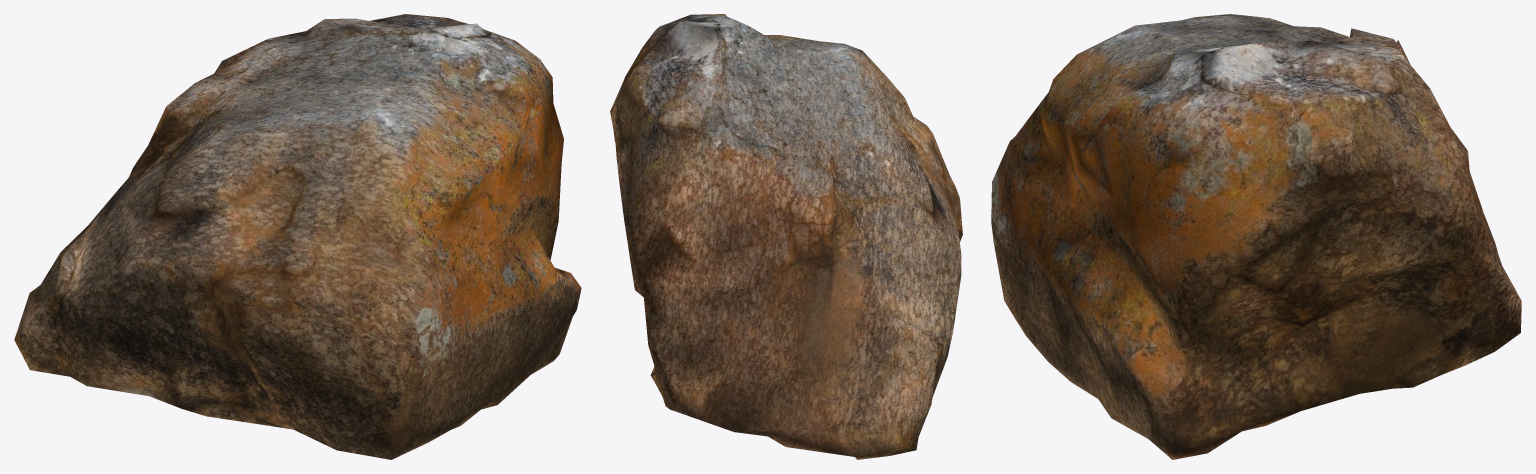
File: boulder_b.glb
3 views of the same model, side by side, from view 1: azimuth 30°, elevation 25°; view 2: azimuth 150°, elevation 25°; view 3: azimuth 270°, elevation 25° (orthographic). The views are drawn at different scales.
Visible parts, largest first — view 1: boulder_04; view 2: boulder_04; view 3: boulder_04.
Boxes of the visible parts, x1,y1,x2,y2 form: boulder_04: (14, 14, 581, 459); boulder_04: (610, 14, 962, 459); boulder_04: (991, 14, 1521, 459).
Size of the model in its own units: 2.51 by 1.88 by 2.47.
1 material, 1 textured.
